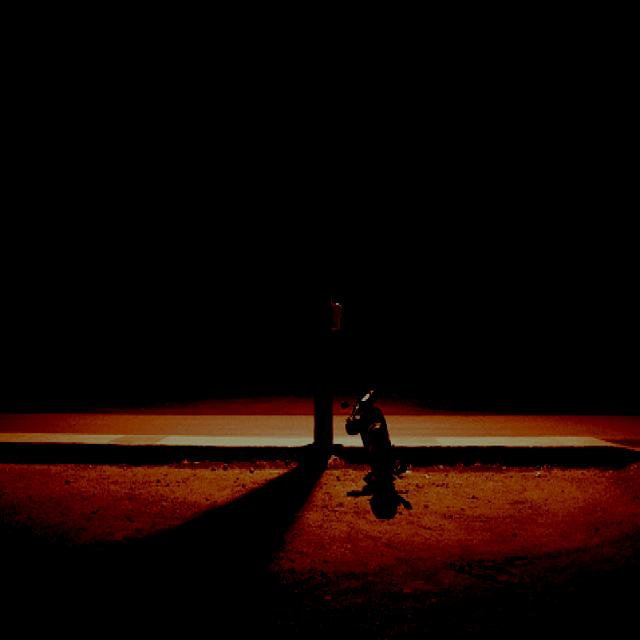Motorbike: (339, 368, 407, 506)
